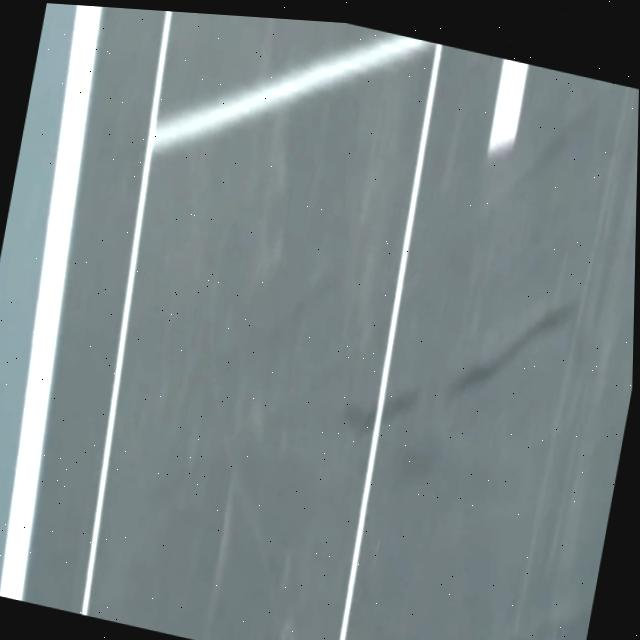center: (488, 59, 528, 156)
left: (0, 5, 101, 601)
